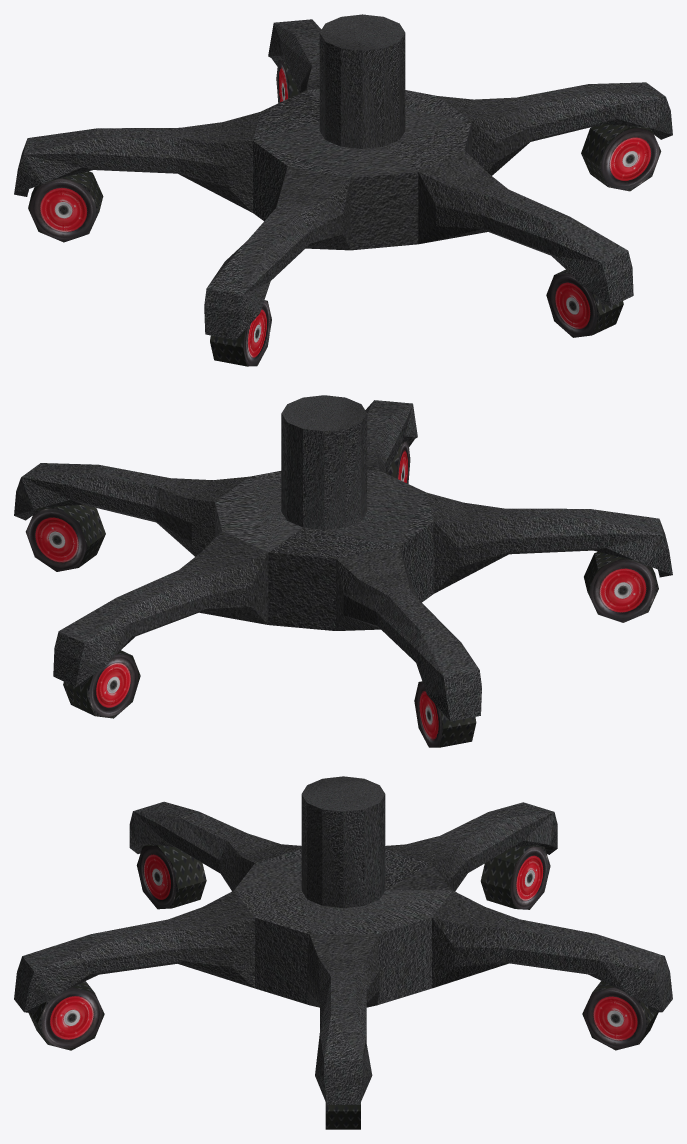
Rendered from ChairBase_1.fbx.
The picture shows the model from 3 angles, top to bottom: view 1: azimuth 30°, elevation 25°; view 2: azimuth 150°, elevation 25°; view 3: azimuth 270°, elevation 25°; orthographic projection. The views are drawn at different scales.
Parts seen in each view (by area): view 1: ChairBase_1; view 2: ChairBase_1; view 3: ChairBase_1.
Part boxes in pixels (<box>): ChairBase_1: <box>14,14,672,366</box>; ChairBase_1: <box>14,395,672,747</box>; ChairBase_1: <box>14,776,672,1129</box>.
Size of the model in its own units: 19.85 by 53.42 by 56.11.
